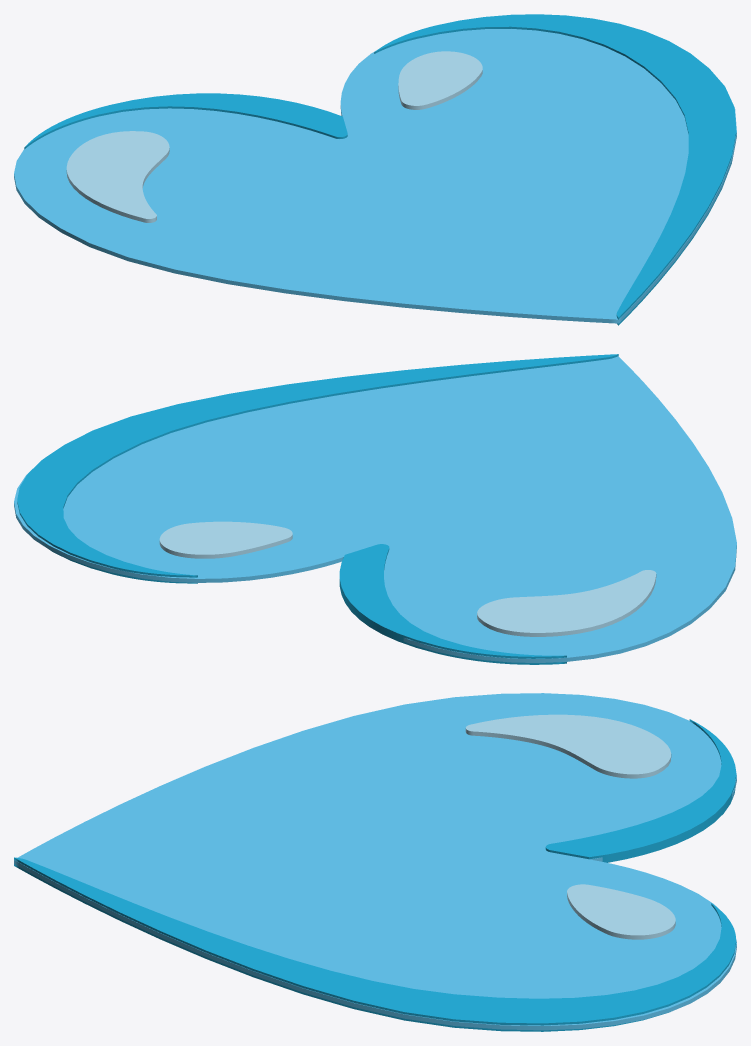
File: emoji_u1fa75.glb
The picture shows the model from 3 angles, top to bottom: view 1: azimuth 30°, elevation 25°; view 2: azimuth 150°, elevation 25°; view 3: azimuth 270°, elevation 25°; orthographic projection. The views are drawn at different scales.
Parts seen in each view (by area): view 1: emoji_u1fa75; view 2: emoji_u1fa75; view 3: emoji_u1fa75.
Boxes of the visible parts, x1,y1,x2,y2 form: emoji_u1fa75: (14, 14, 736, 325); emoji_u1fa75: (14, 354, 736, 664); emoji_u1fa75: (14, 693, 736, 1031).
Size of the model in its own units: 0.0339 by 0.0006 by 0.0311.
